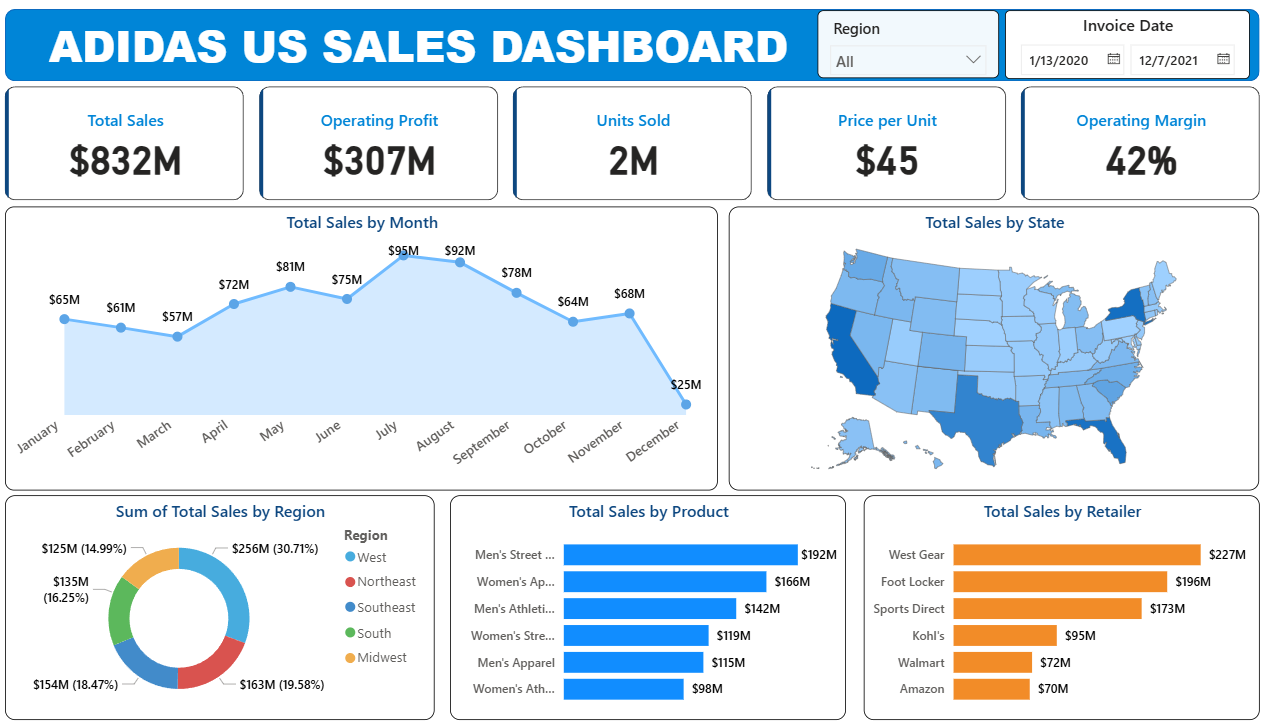

The dashboard page shown, as its layout file describes it:
{"tool":"powerbi","page":{"name":"Page 1","canvas":[1280,720],"ordinal":0},"visuals":[{"type":"shape","box":[9.8,0,1254.6,72.1],"z":0},{"type":"textbox","box":[48.8,1.2,750,72.5],"z":1000},{"type":"cardVisual","fields":{"Data":["Sum(Data Sales Adidas.Total Sales)","Sum(Data Sales Adidas.Operating Profit)","Sum(Data Sales Adidas.Units Sold)","Avg(Data Sales Adidas.Price per Unit)","Avg(Data Sales Adidas.Operating Margin)"]},"box":[4.9,72.1,1269.3,124.7],"z":2000},{"type":"areaChart","title":"Total Sales by Month","fields":{"Category":["Data Sales Adidas.Invoice Date.Variation.Date Hierarchy.Month"],"Y":["Sum(Data Sales Adidas.Total Sales)"]},"box":[9.8,196.9,712.9,283.7],"z":3000},{"type":"shapeMap","title":"Total Sales by State","fields":{"Category":["Data Sales Adidas.State"],"Value":["Sum(Data Sales Adidas.Total Sales)"]},"box":[733.7,196.9,530.7,283.7],"z":4000},{"type":"donutChart","fields":{"Category":["Data Sales Adidas.Region"],"Y":["Sum(Data Sales Adidas.Total Sales)"]},"box":[9.8,486.7,429.2,225],"z":5000},{"type":"barChart","fields":{"Category":["Data Sales Adidas.Product"],"Y":["Sum(Data Sales Adidas.Total Sales)"]},"box":[455.5,486.7,396.2,225],"z":6000},{"type":"barChart","fields":{"Y":["Sum(Data Sales Adidas.Total Sales)"],"Category":["Data Sales Adidas.Retailer"]},"box":[868.2,486.7,396.2,225],"z":7000},{"type":"slicer","title":"Invoice Date","fields":{"Values":["Data Sales Adidas.Invoice Date"]},"box":[1010,1.8,244.7,68.8],"z":8000},{"type":"slicer","fields":{"Values":["Data Sales Adidas.Region"]},"box":[822.4,1.8,181.8,67.6],"z":9000}]}

Visuals, with their boxes in screenshot pixels (x1, y1, x2, y2), scaled from the page's 1280x720 canvas onto the 1268x725 screenshot:
shape: 10,0,1253,73
textbox: 48,1,791,74
cardVisual - Sum(Data Sales Adidas.Total Sales) x Sum(Data Sales Adidas.Operating Profit): 5,73,1262,198
"Total Sales by Month" areaChart: 10,198,716,484
"Total Sales by State" shapeMap: 727,198,1253,484
donutChart - Data Sales Adidas.Region x Sum(Data Sales Adidas.Total Sales): 10,490,435,717
barChart - Data Sales Adidas.Product x Sum(Data Sales Adidas.Total Sales): 451,490,844,717
barChart - Sum(Data Sales Adidas.Total Sales) x Data Sales Adidas.Retailer: 860,490,1253,717
"Invoice Date" slicer: 1001,2,1243,71
slicer - Data Sales Adidas.Region: 815,2,995,70
